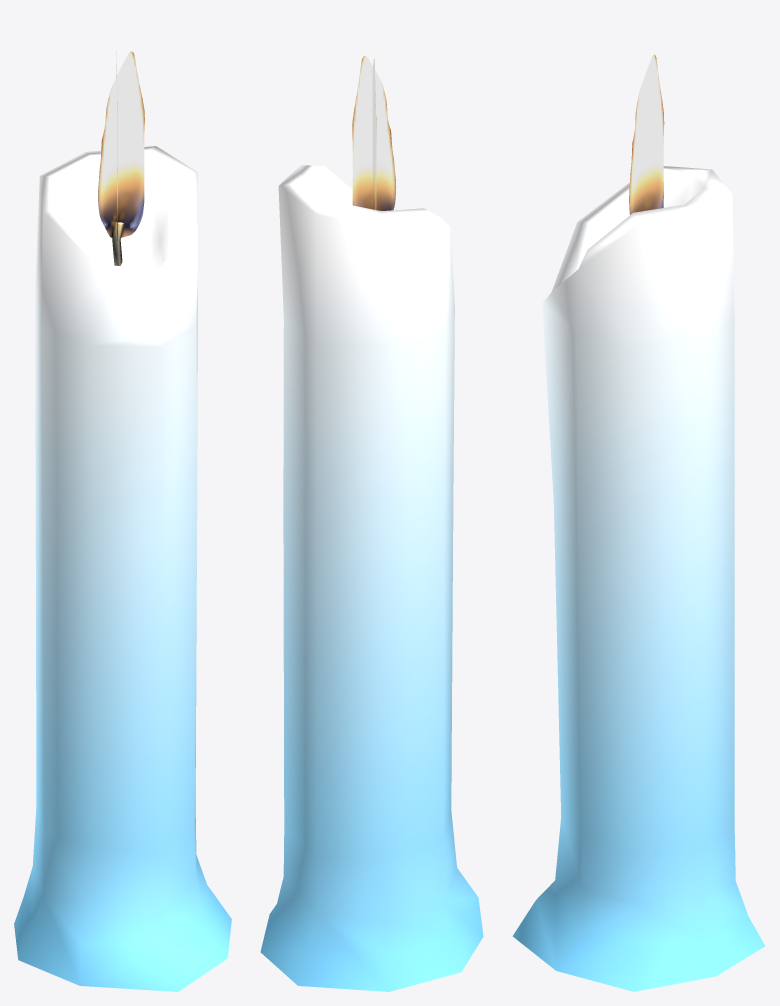
The model's file is CandleShapeA.015.glb.
The picture shows the model from 3 angles, left to right: view 1: azimuth 30°, elevation 25°; view 2: azimuth 150°, elevation 25°; view 3: azimuth 270°, elevation 25°; orthographic projection.
Parts seen in each view (by area): view 1: CandleShapeA.015; view 2: CandleShapeA.015; view 3: CandleShapeA.015.
Part boxes in pixels (x1,y1,x2,y2): CandleShapeA.015: (14,51,231,991); CandleShapeA.015: (260,56,483,991); CandleShapeA.015: (512,54,764,991).
Size of the model in its own units: 0.0814 by 0.3472 by 0.0887.
Materials: 2 (2 with a texture image).
